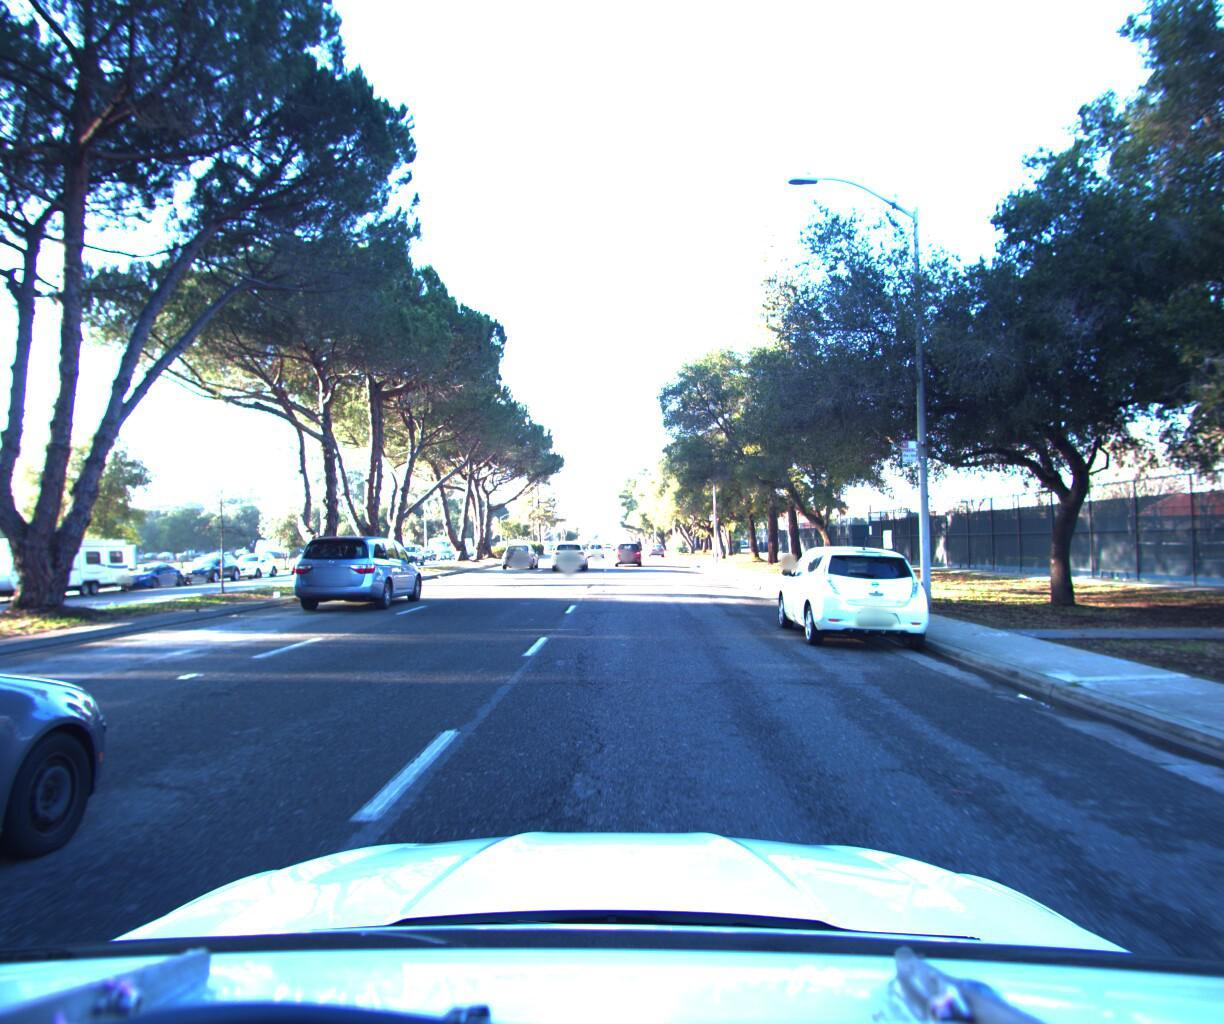car: (762, 537, 950, 648), (287, 531, 427, 612), (176, 548, 243, 583), (118, 559, 189, 590), (225, 548, 279, 578), (549, 537, 588, 569), (499, 537, 538, 565), (286, 549, 329, 573), (391, 539, 426, 562), (614, 537, 642, 563), (589, 536, 608, 553)
